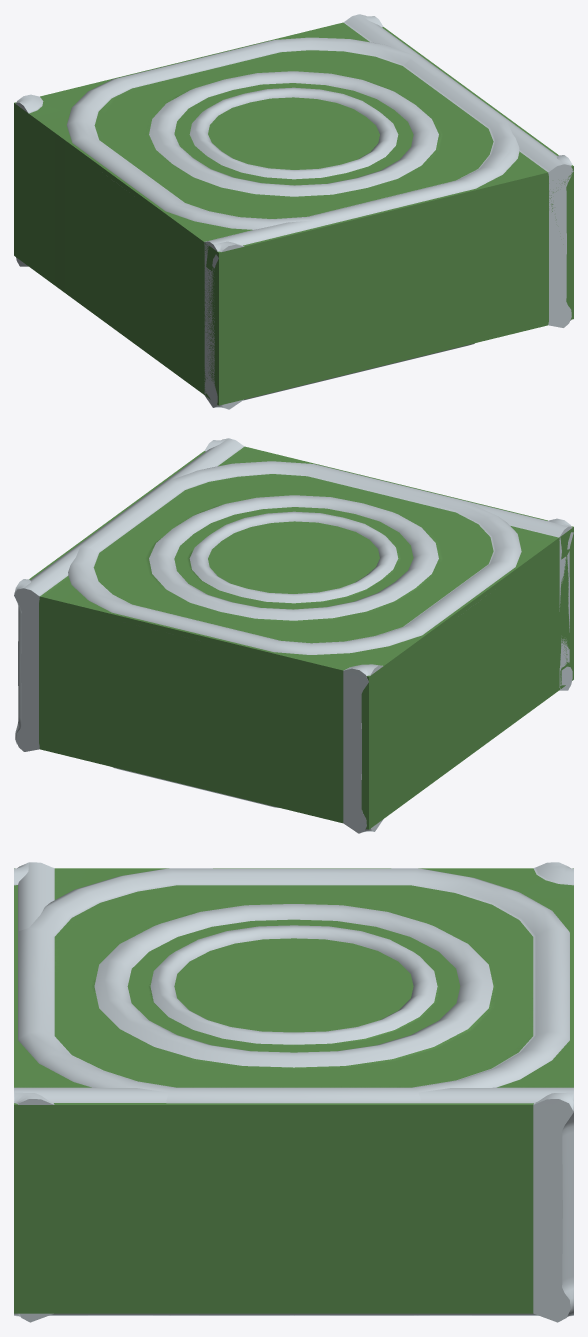
Rendered from platformsWithCorners.fbx.
3 renders of one model, top to bottom at view 1: azimuth 30°, elevation 25°; view 2: azimuth 150°, elevation 25°; view 3: azimuth 270°, elevation 25°, orthographic. The views are drawn at different scales.
Visible parts, largest first — view 1: Platforms4_PlatBorderedSideS1, Platforms4_PlatBorderCornerS, PlatBorderInwardsHoleSmallerS4, Platform_PlatInwardCorner1, Platform_PlatInwardCorner2S2, PlatBordered_Smoother, Platform_PlatInwardCorner3, Platform_PlatInwardCorner2, Platforms4_PlatBorderedSideS2, PlatBorderCorner_Smoother, Platform_PlatInwardCornerS4, PlatBorderInwardsHole2S2 (+7 smaller); view 2: Platforms4_PlatBorderedSideS1, Platforms4_PlatBorderCornerS, PlatBorderInwardsHoleSmallerS4, Platform_PlatInwardCorner2S2, Platform_PlatInwardCorner1, PlatBordered_Smoother, Platform_PlatInwardCornerS4, PlatBorderCorner_Smoother, PlatBorderInwardsHole2S2, Platform_PlatInwardCorner3, Platform_PlatInwardCorner2, PlatBorderInwardsHoleSmaller2S2 (+6 smaller); view 3: PlatBorderInwardsHoleButtonS1, PlatBorderInwardsHoleSmallerS4, Platform_PlatInwardCorner2S2, Platforms4_PlatBorderedSideS1, PlatBorderInwardsHole2S2, PlatBordered_Smoother, PlatBorderCorner_Smoother, Platforms4_PlatBorderCornerS, Platform_PlatInwardCornerS1, Platform_PlatInwardCorner1, PlatBorderInwardsHoleSmaller2S2, Platform_PlatInwardCornerS4 (+6 smaller).
Boxes of the visible parts, x1,y1,x2,y2 form: Platforms4_PlatBorderedSideS1: [20, 14, 573, 405]; Platforms4_PlatBorderCornerS: [42, 14, 512, 407]; PlatBorderInwardsHoleSmallerS4: [15, 14, 572, 408]; Platform_PlatInwardCorner1: [32, 81, 485, 393]; Platform_PlatInwardCorner2S2: [14, 42, 546, 292]; PlatBordered_Smoother: [66, 37, 519, 383]; Platform_PlatInwardCorner3: [68, 62, 563, 405]; Platform_PlatInwardCorner2: [164, 57, 573, 339]; Platforms4_PlatBorderedSideS2: [17, 68, 459, 409]; PlatBorderCorner_Smoother: [14, 14, 515, 400]; Platform_PlatInwardCornerS4: [98, 52, 488, 217]; PlatBorderInwardsHole2S2: [89, 49, 515, 223]; Platforms4_PlatBorderedSideS1: [17, 438, 537, 833]; Platforms4_PlatBorderCornerS: [21, 461, 573, 767]; PlatBorderInwardsHoleSmallerS4: [14, 438, 571, 832]; Platform_PlatInwardCorner2S2: [66, 448, 567, 829]; Platform_PlatInwardCorner1: [185, 492, 573, 827]; PlatBordered_Smoother: [68, 461, 521, 807]; Platform_PlatInwardCornerS4: [112, 476, 448, 640]; PlatBorderCorner_Smoother: [18, 463, 567, 827]; PlatBorderInwardsHole2S2: [73, 478, 490, 759]; Platform_PlatInwardCorner3: [101, 440, 572, 695]; Platform_PlatInwardCorner2: [100, 448, 547, 635]; PlatBorderInwardsHoleSmaller2S2: [134, 478, 461, 636]; PlatBorderInwardsHoleButtonS1: [14, 957, 363, 1313]; PlatBorderInwardsHoleSmallerS4: [14, 862, 573, 1322]; Platform_PlatInwardCorner2S2: [14, 862, 573, 1313]; Platforms4_PlatBorderedSideS1: [14, 862, 573, 1315]; PlatBorderInwardsHole2S2: [14, 869, 573, 1313]; PlatBordered_Smoother: [19, 868, 569, 1315]; PlatBorderCorner_Smoother: [18, 862, 573, 1315]; Platforms4_PlatBorderCornerS: [18, 862, 573, 1092]; Platform_PlatInwardCornerS1: [88, 899, 498, 1073]; Platform_PlatInwardCorner1: [14, 868, 572, 1033]; PlatBorderInwardsHoleSmaller2S2: [90, 899, 498, 1073]; Platform_PlatInwardCornerS4: [89, 899, 499, 1073].
Size of the model in its own units: 167 by 73.64 by 167.
